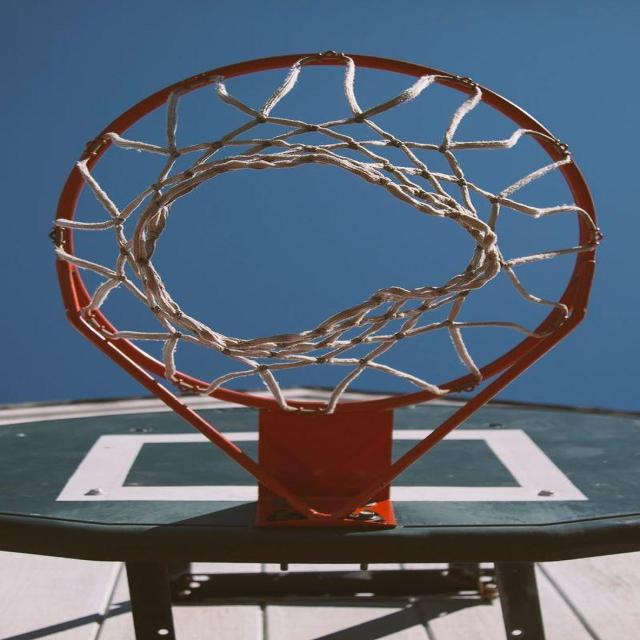hoop: (9, 46, 618, 540)
